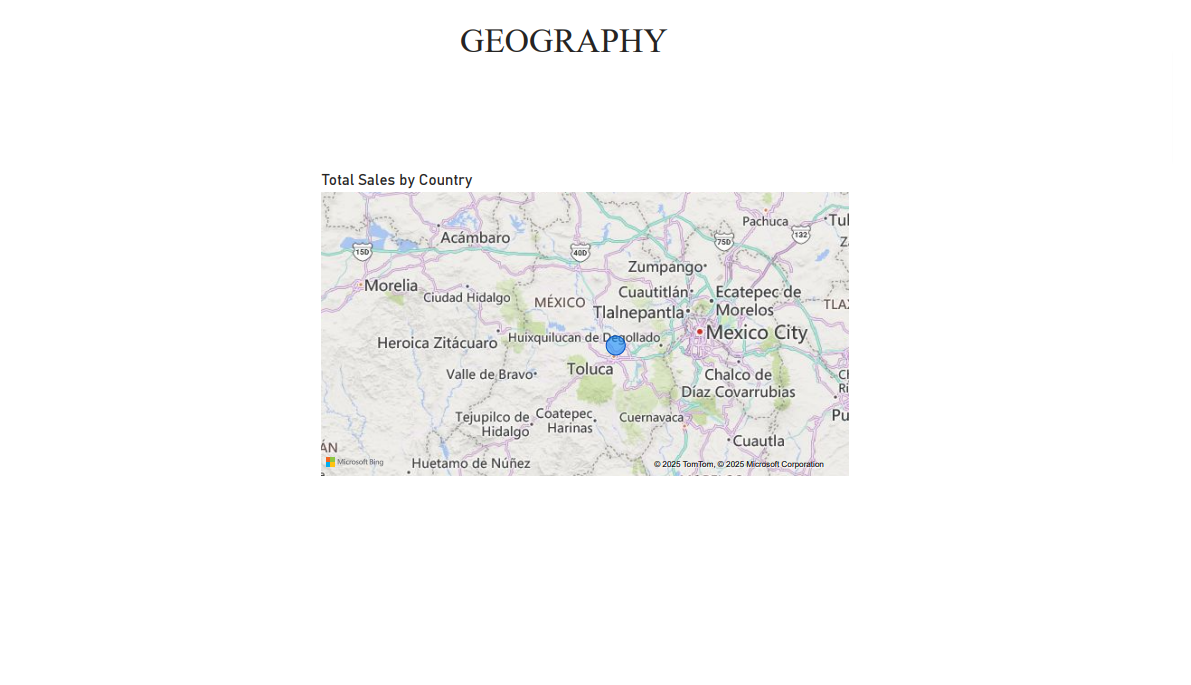

What the dashboard file says about the page in this screenshot:
{"tool":"powerbi","page":{"name":"Geography","canvas":[1280,720],"ordinal":2},"visuals":[{"type":"textbox","box":[344,0,523,89],"z":0},{"type":"map","fields":{"Category":["financials.Country"],"Size":["Dim Date.Total Sales"]},"box":[332,171,594,342],"z":1000}]}

Visuals, with their boxes in screenshot pixels (x1, y1, x2, y2), scaled from the page's 1280x720 canvas onto the 1191x685 screenshot:
textbox: (left=320, top=0, right=807, bottom=85)
map - financials.Country x Dim Date.Total Sales: (left=309, top=163, right=862, bottom=488)
